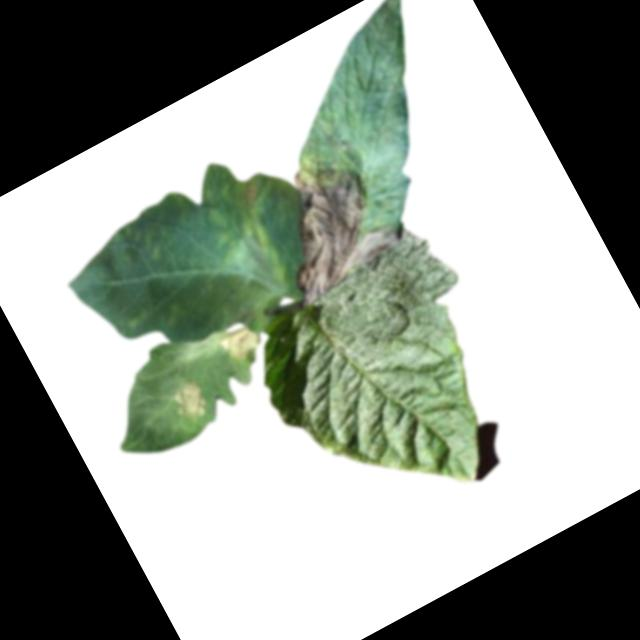Late_blight: (237, 120, 415, 305), (209, 220, 300, 322), (164, 370, 216, 428), (218, 321, 265, 366)
healthy: (232, 224, 548, 548)
